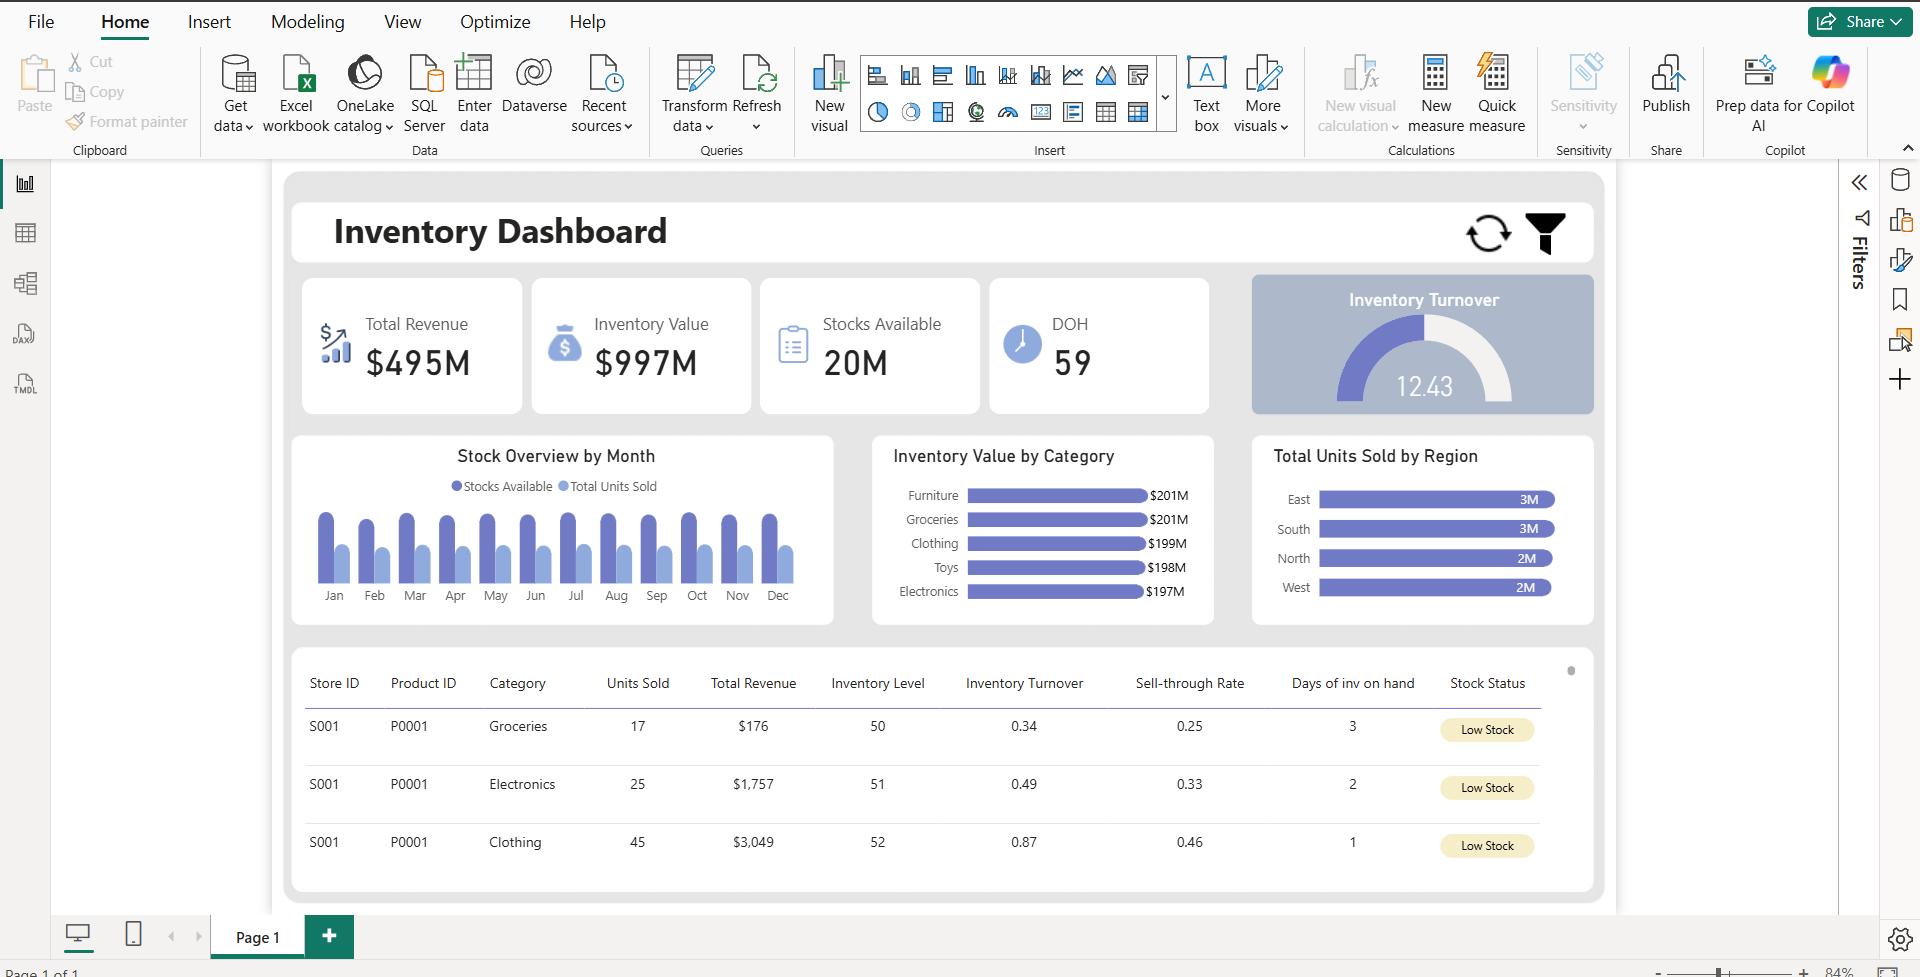

Layout of this report page (visuals, bound fields, positions):
{"tool":"powerbi","page":{"name":"Page 1","canvas":[1280,720],"ordinal":0},"visuals":[{"type":"textbox","box":[53.4,40.4,370.8,62],"z":0},{"type":"cardVisual","fields":{"Data":["K Measures.Total Revenue","K Measures.Inventory Value","K Measures.Stocks Available","K Measures.Days of inv on hand"]},"box":[24,107.9,876.1,140.2],"z":1000},{"type":"gauge","fields":{"Y":["K Measures.Inventory Turnover"]},"box":[955.1,124.1,285.7,112.5],"z":2000},{"type":"clusteredColumnChart","title":"Stock Overview by Month","fields":{"Category":["Date table.Month Name"],"Y":["K Measures.Stocks Available","K Measures.Total Units Sold"]},"box":[24,272.1,493.8,161.8],"z":3000},{"type":"clusteredBarChart","fields":{"Category":["Inventory.Category"],"Y":["K Measures.Inventory Value"]},"box":[587.2,272.7,297.2,161.6],"z":4000},{"type":"clusteredBarChart","fields":{"Y":["K Measures.Total Units Sold"],"Category":["Inventory.Region"]},"box":[949.3,272.7,297.2,161.6],"z":5000},{"type":"tableEx","fields":{"Values":["Inventory.Store ID","Inventory.Product ID","Inventory.Category","Inventory.Units Sold","K Measures.Total Revenue","Inventory.Inventory Level","K Measures.Inventory Turnover","K Measures.Sell-through Rate","K Measures.Days of inv on hand","K Measures.Stock Status"]},"box":[24.5,477.6,1222,209.2],"z":6000},{"type":"image","box":[1185.9,44.7,54.8,53.4],"z":8000},{"type":"image","box":[1132.6,44.3,53.9,53.9],"z":9000}]}

Visuals, with their boxes on the page's 1280x720 design canvas (x1, y1, x2, y2). These are canvas units, not pixel positions in the 1920x977 screenshot, which may show the page scaled, cropped or inside an application window:
textbox: {"left": 53, "top": 40, "right": 424, "bottom": 102}
cardVisual - K Measures.Total Revenue x K Measures.Inventory Value: {"left": 24, "top": 108, "right": 900, "bottom": 248}
gauge - K Measures.Inventory Turnover: {"left": 955, "top": 124, "right": 1241, "bottom": 237}
"Stock Overview by Month" clusteredColumnChart: {"left": 24, "top": 272, "right": 518, "bottom": 434}
clusteredBarChart - Inventory.Category x K Measures.Inventory Value: {"left": 587, "top": 273, "right": 884, "bottom": 434}
clusteredBarChart - K Measures.Total Units Sold x Inventory.Region: {"left": 949, "top": 273, "right": 1246, "bottom": 434}
tableEx - Inventory.Store ID x Inventory.Product ID: {"left": 24, "top": 478, "right": 1246, "bottom": 687}
image: {"left": 1186, "top": 45, "right": 1241, "bottom": 98}
image: {"left": 1133, "top": 44, "right": 1186, "bottom": 98}
